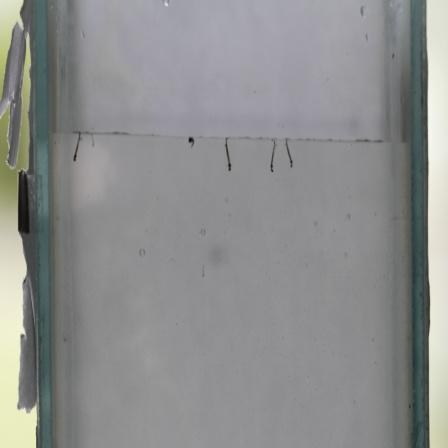Jentik-Nyamuk: (264, 136, 280, 173), (222, 133, 235, 177), (281, 134, 296, 172), (71, 132, 84, 165), (184, 134, 197, 151)
